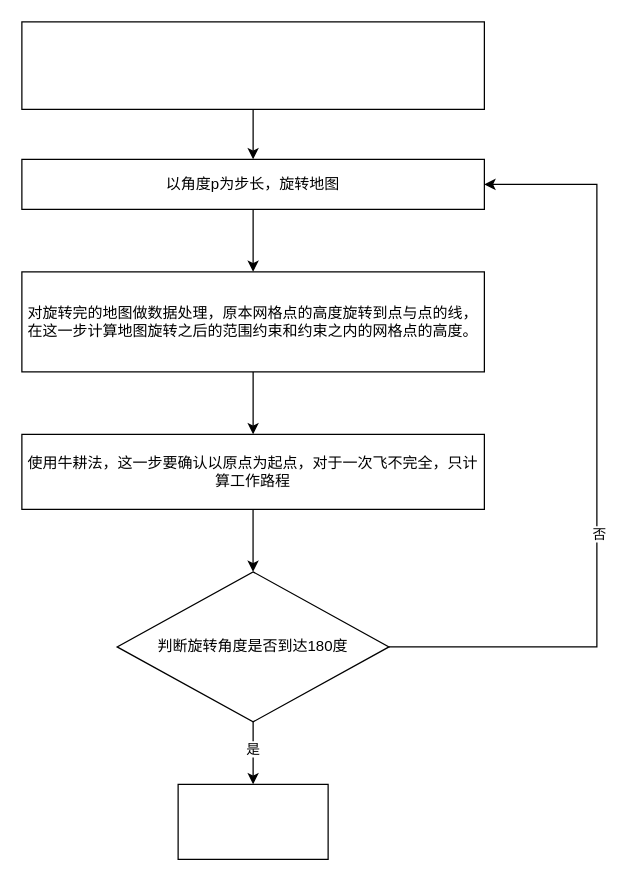
Image size: 629x881. Some labels were removed from this diagram. Here are the shapes that lost their labels. From the top down, the centre of each, then its label:
pixel 252 65: 读取dem数据，制作初始地图数据
pixel 252 821: 输出最短路径
